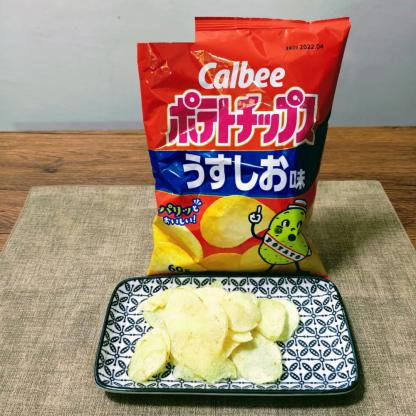potatochip: (132, 11, 350, 279)
